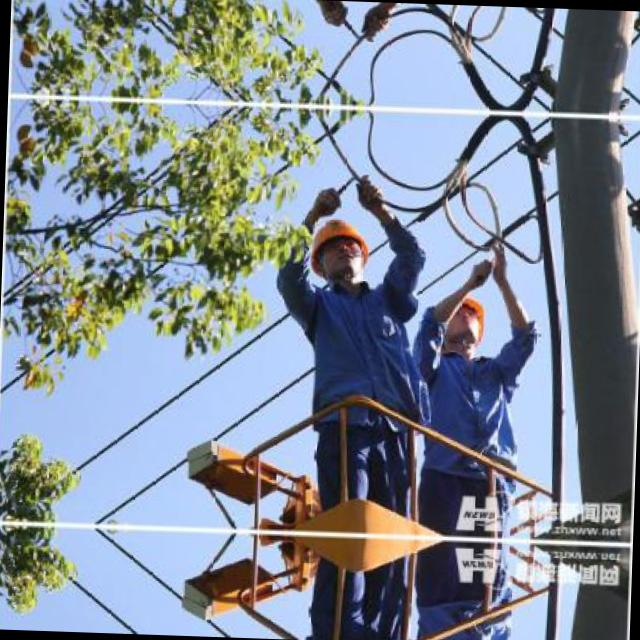helmet: (301, 209, 375, 290), (444, 290, 488, 351)
